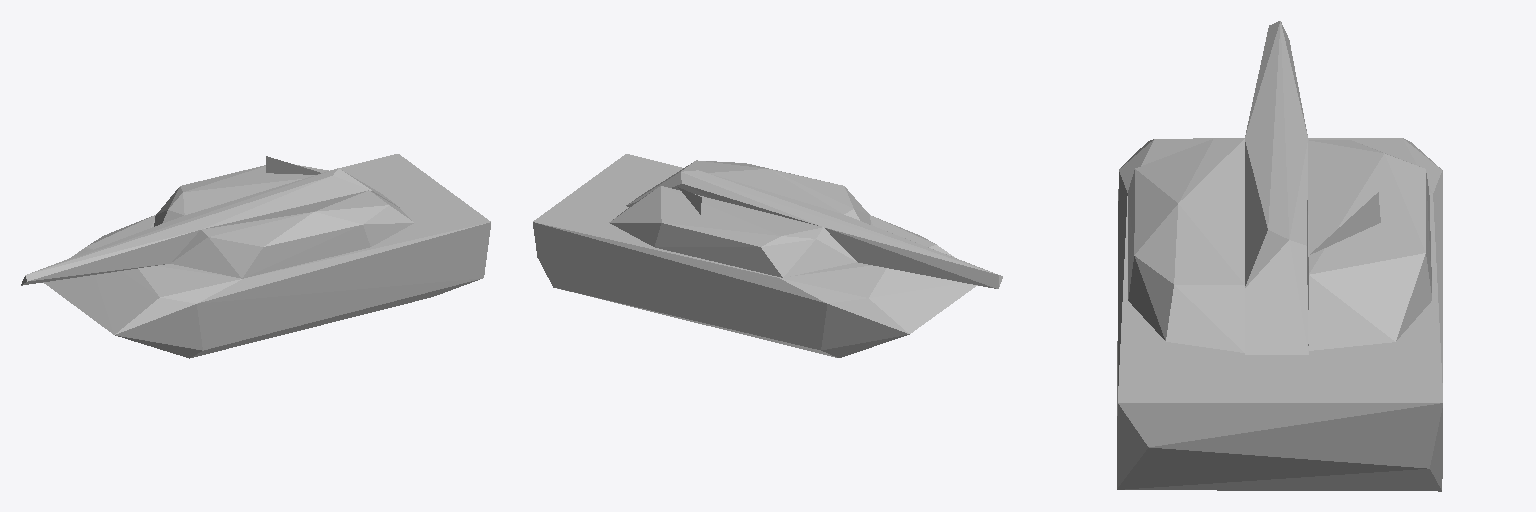
The robot description file, URDF, robot "root":
<robot name="root">
  <link name="link_coacd_convex_piece_0">
    <inertial>
      <mass value="0.1"/>
      <origin xyz="0 0 0" rpy="0 0 0"/>
      <inertia ixx="1.19E-02" ixy="-1.97E-05" ixz="1.25E-03" iyy="4.20E-02" iyz="-6.76E-06" izz="4.80E-02"/>
    </inertial>
    <visual>
      <origin xyz="0 0 0" rpy="0 0 0"/>
      <geometry>
        <mesh filename="decomposed_new1.obj" scale="1.0000E+00 1.0000E+00 1.0000E+00"/>
      </geometry>
      <material name="">
        <color rgba="7.50E-01 7.50E-01 7.50E-01 1"/>
      </material>
    </visual>
    <collision>
      <origin xyz="0 0 0" rpy="0 0 0"/>
      <geometry>
        <mesh filename="decomposed_new1.obj" scale="1.0000E+00 1.0000E+00 1.0000E+00"/>
      </geometry>
    </collision>
  </link>
</robot>

--- Render facts (derived) ---
3 views of the same robot in one strip: view 1: azimuth 30°, elevation 25°; view 2: azimuth 150°, elevation 25°; view 3: azimuth 270°, elevation 25° (orthographic).
Model root with 1 links and 0 joints (none), rooted at link_coacd_convex_piece_0, posed all joints at 0.
Links seen in each view (by area): view 1: link_coacd_convex_piece_0; view 2: link_coacd_convex_piece_0; view 3: link_coacd_convex_piece_0.
Boxes of the visible links, x1,y1,x2,y2 form: link_coacd_convex_piece_0: (21, 154, 490, 358); link_coacd_convex_piece_0: (533, 154, 1002, 357); link_coacd_convex_piece_0: (1117, 21, 1442, 491).
Size in the robot's own frame: 0.2769 by 0.1057 by 0.0737 metres.
1 mesh visuals loaded from 1 distinct referenced files (1 OBJ).
